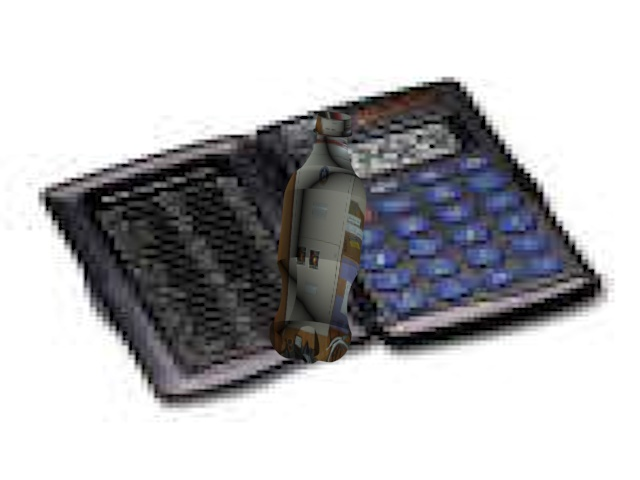bottle: (257, 105, 369, 369)
